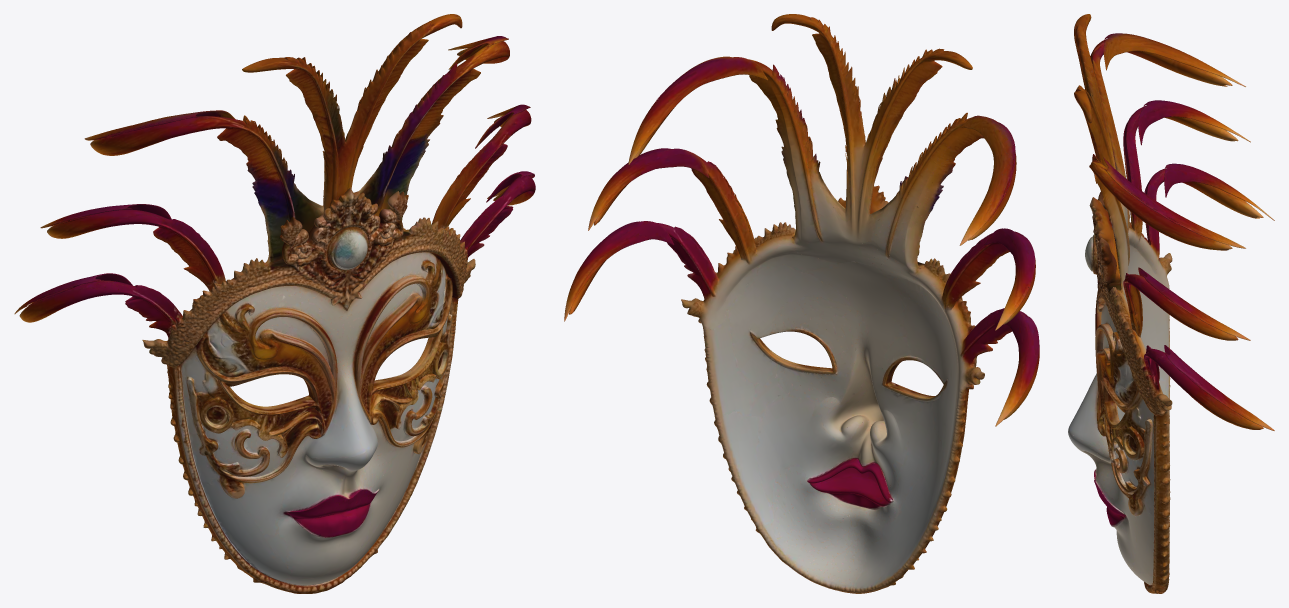
The model's file is mask_A.glb.
The picture shows the model from 3 angles, left to right: view 1: azimuth 30°, elevation 25°; view 2: azimuth 150°, elevation 25°; view 3: azimuth 270°, elevation 25°; orthographic projection. The views are drawn at different scales.
Parts seen in each view (by area): view 1: material; view 2: material; view 3: material.
Part boxes in pixels (bbox=[...]): material: bbox=[14, 14, 535, 593]; material: bbox=[564, 14, 1039, 593]; material: bbox=[1068, 14, 1274, 593].
Size of the model in its own units: 0.9796 by 1.09 by 0.388.
1 material, 1 textured.
